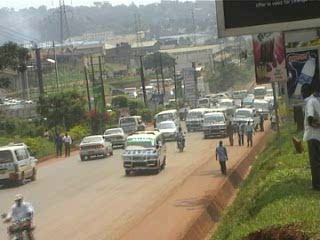Car: (76, 133, 116, 162), (150, 118, 179, 140), (102, 126, 128, 147), (177, 105, 194, 121)
Motorcycle: (0, 210, 38, 239), (172, 131, 188, 153)
